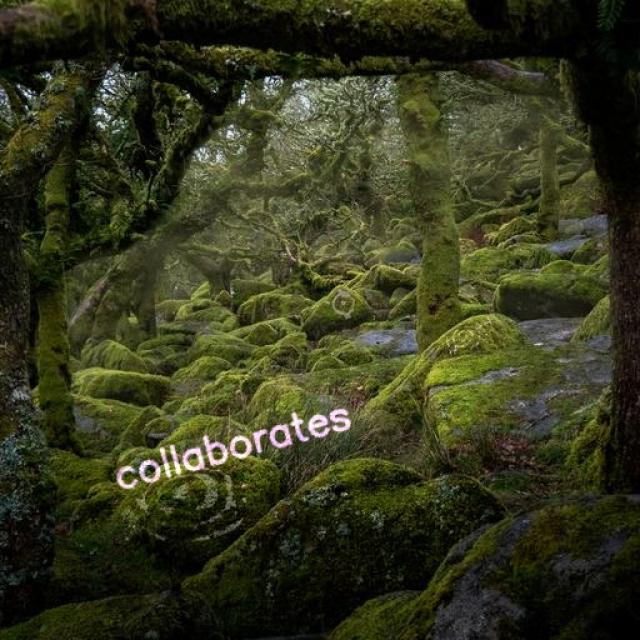watermark: (108, 395, 354, 496)
